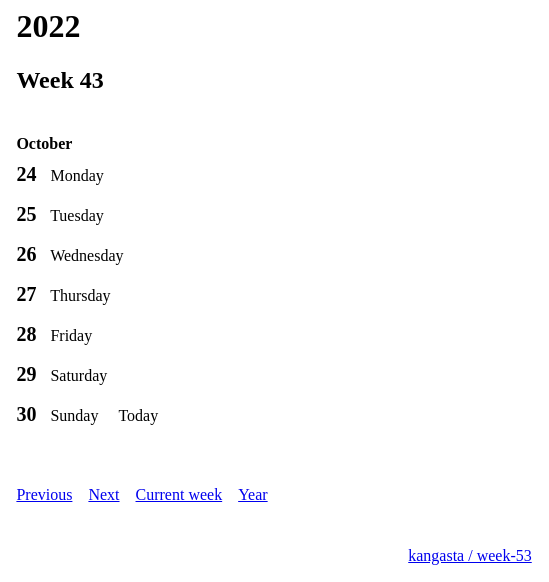
Scenario: App displays today indicator
Click the link "Next": click(104, 494) [88,486,120,503]
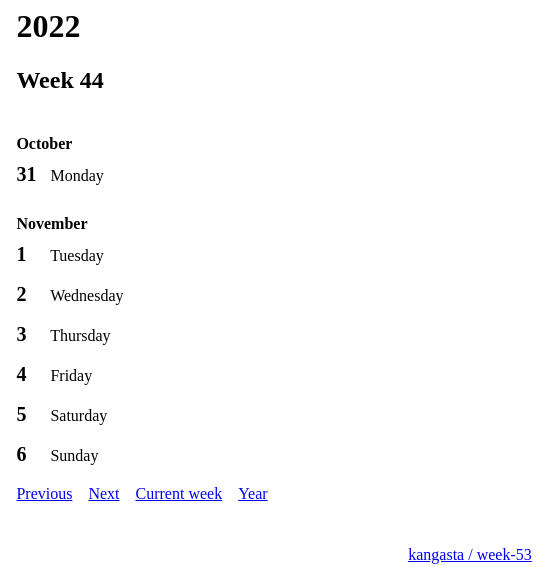
Expected: the text "Today" is gone
